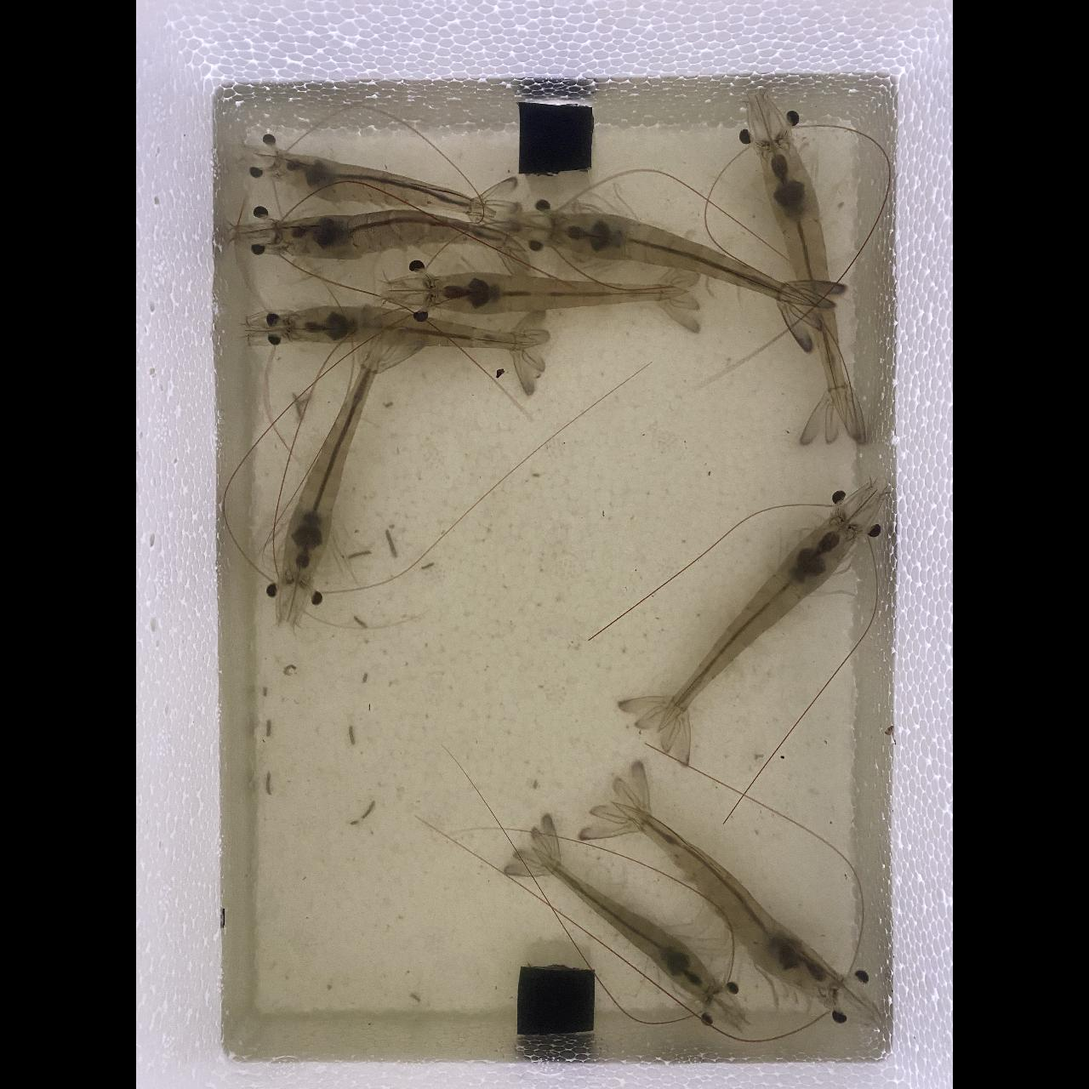box: (519, 100, 592, 174), (519, 966, 596, 1035)
top_shrimp: (621, 800, 835, 992), (660, 517, 852, 721), (538, 852, 713, 997), (546, 211, 810, 305), (765, 142, 845, 428), (284, 349, 379, 582), (280, 154, 495, 217), (276, 213, 519, 257), (429, 272, 684, 311), (286, 305, 534, 345)
